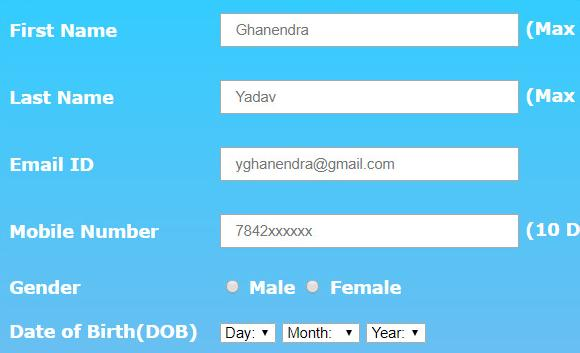field: (217, 10, 523, 51), (216, 78, 523, 118), (217, 211, 523, 250), (218, 145, 521, 182), (280, 321, 360, 345), (363, 321, 427, 345), (217, 321, 278, 346)
field_with_label: (8, 6, 527, 54), (10, 206, 529, 254), (6, 139, 525, 187), (7, 75, 526, 123)
radio: (222, 277, 243, 298), (302, 277, 319, 297)
radio_with_label: (303, 273, 408, 302), (214, 271, 298, 303)
